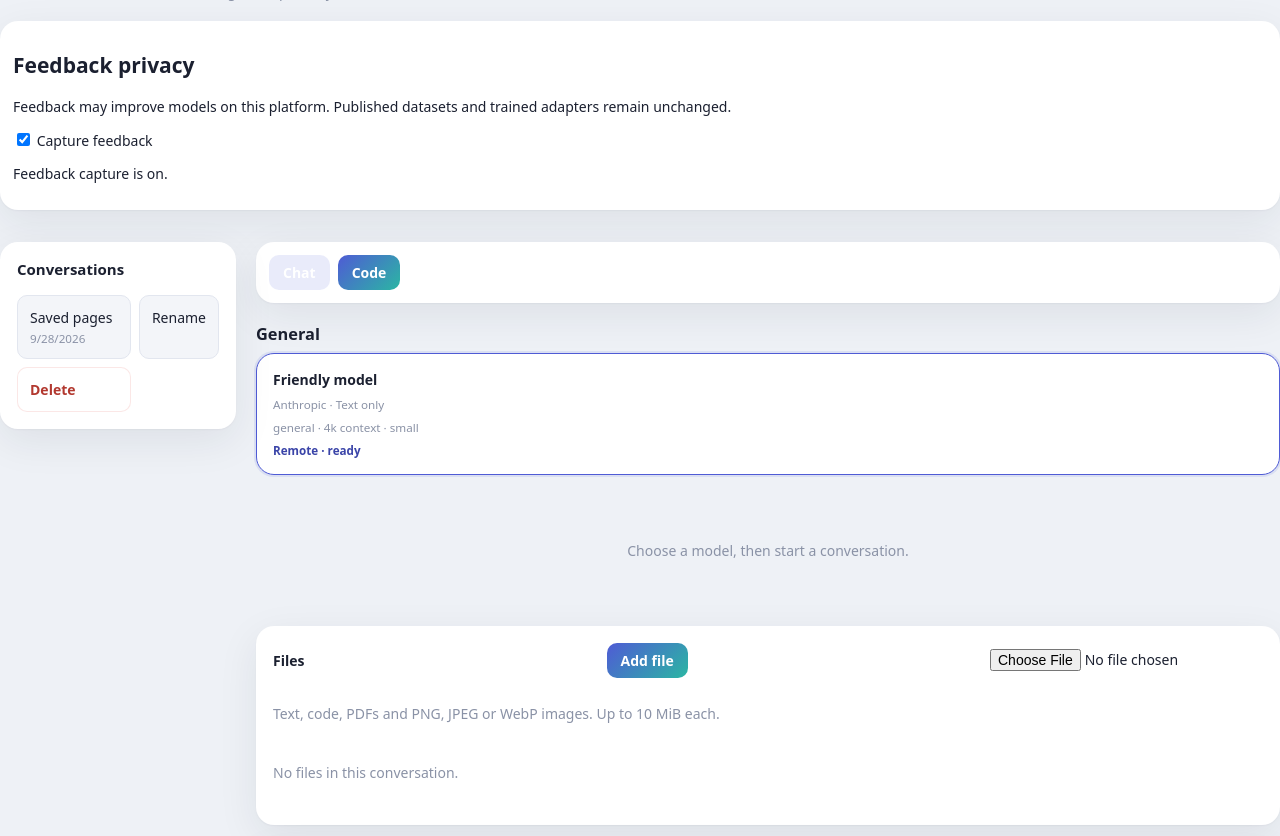
Test: restores saved PDF pages for image-capable model=false only after owner detail confirms them
Click the button "Saved pages 9/28/2026".
click(74, 327)  # box [17, 295, 131, 359]
(page scrolled)
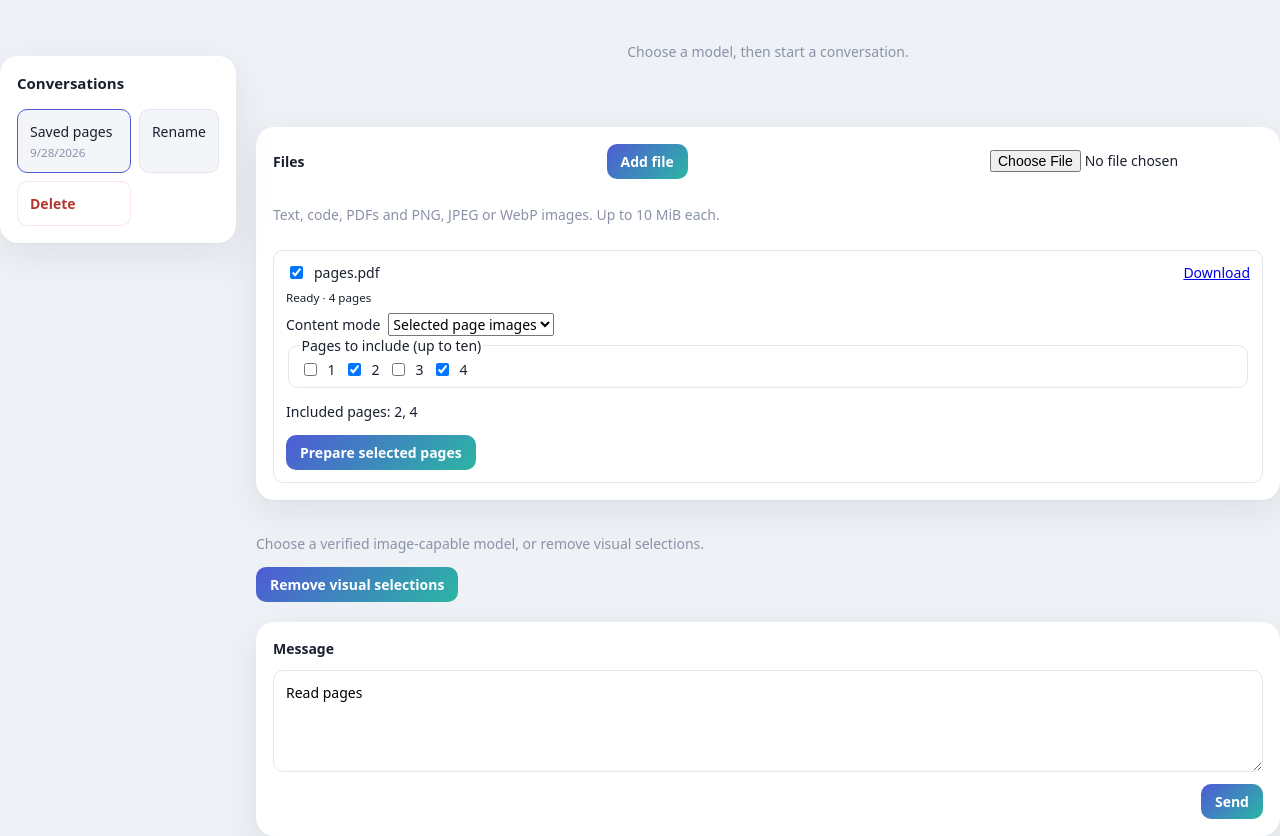
Check: the checkbox labelled "pages.pdf" is checked, box [290, 266, 303, 279]
Check: the text box labelled "Message" holds "Read pages", box [273, 670, 1263, 772]
Check: the dropdown named "Content mode for pages.pdf" shows "Selected page images", box [388, 313, 554, 336]
Click the button "Remove visual selections".
click(357, 585)  # box [256, 568, 458, 602]
(page scrolled)
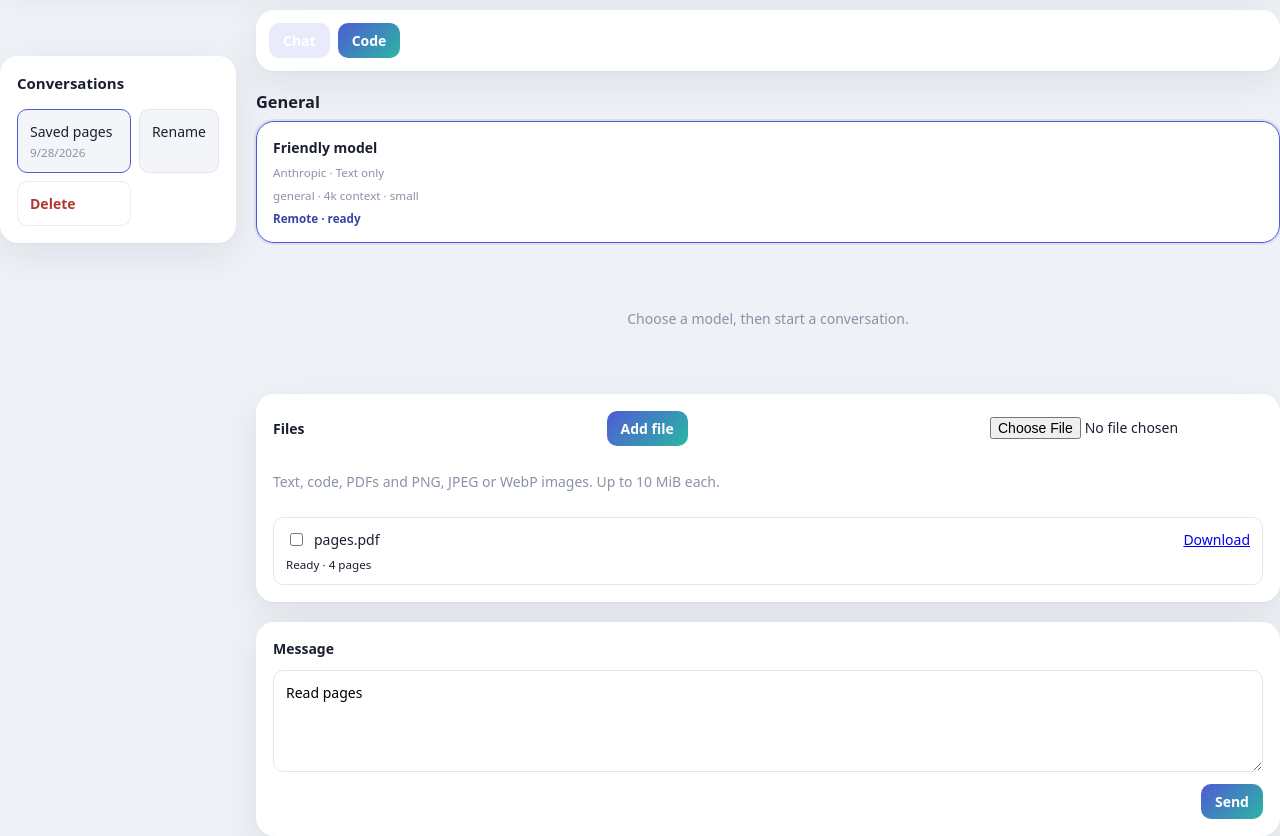
Check: the button "Send" is enabled, box [1201, 784, 1263, 819]
Check: the checkbox labelled "pages.pdf" is not checked, box [290, 533, 303, 546]
